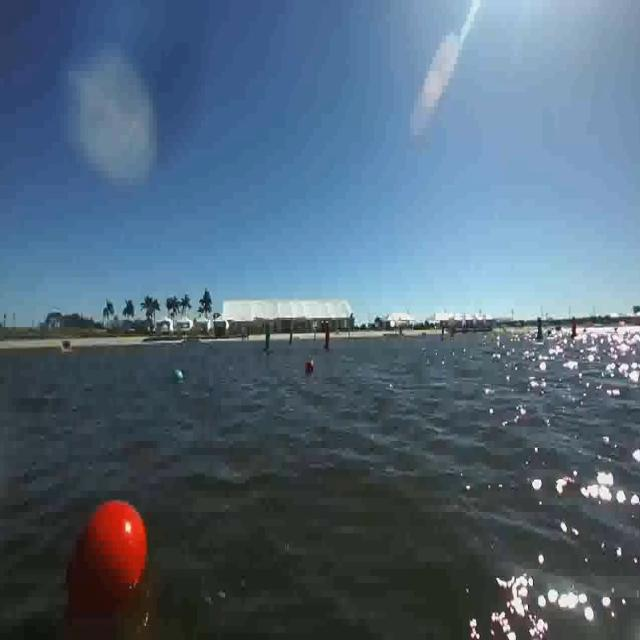green-buoy: (170, 368, 184, 382)
green-column-buoy: (264, 324, 275, 354)
red-buoy: (64, 494, 155, 625), (307, 361, 314, 371)
